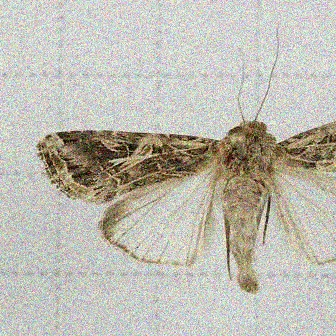Spodoptera litura: (36, 23, 336, 294)
